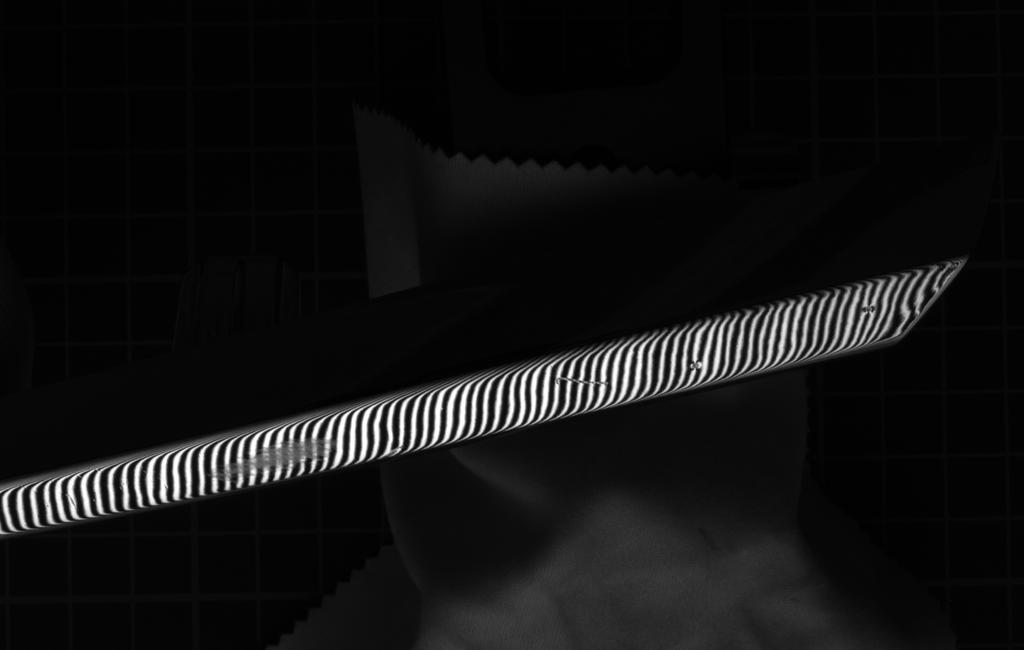Pierced: (683, 357, 710, 374), (858, 301, 884, 317)
Pitting: (198, 435, 336, 486)
Scratch: (540, 370, 622, 393)
